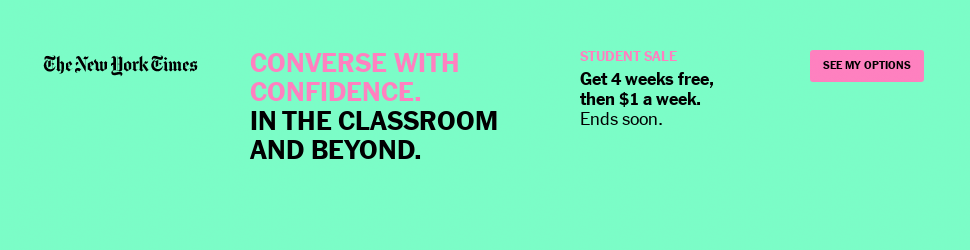fake_button: (801, 39, 930, 96)
